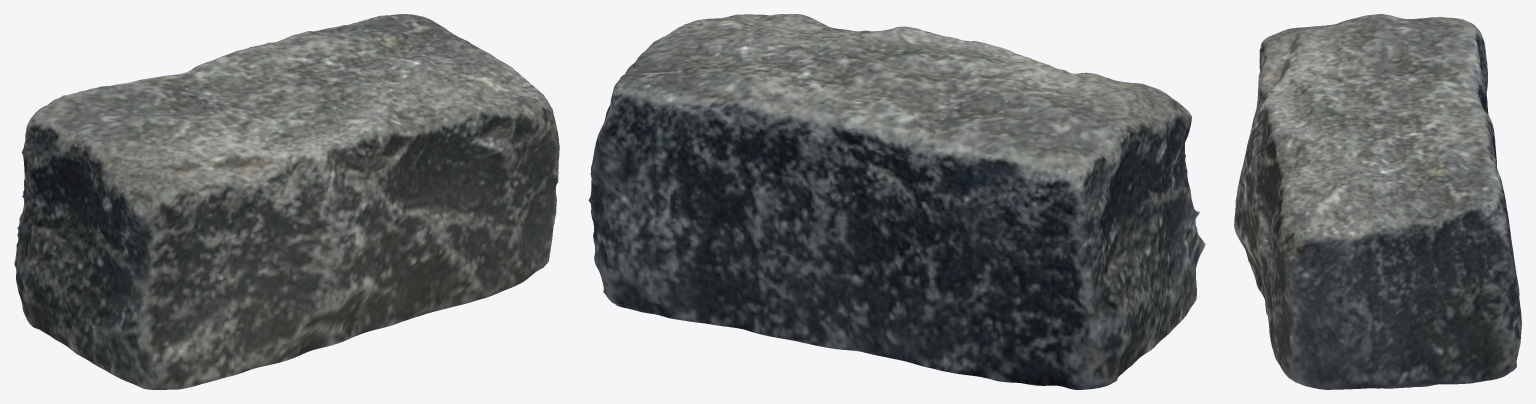
File: stone1.glb
3 views of the same model, side by side, from view 1: azimuth 30°, elevation 25°; view 2: azimuth 150°, elevation 25°; view 3: azimuth 270°, elevation 25° (orthographic). The views are drawn at different scales.
Visible parts, largest first — view 1: Object_2; view 2: Object_2; view 3: Object_2.
Boxes of the visible parts, x1=… form: Object_2: x1=14, y1=14, x2=559, y2=389; Object_2: x1=588, y1=14, x2=1205, y2=389; Object_2: x1=1234, y1=14, x2=1521, y2=389.
Size of the model in its own units: 0.25 by 0.1056 by 0.1442.
1 material, 1 textured.
